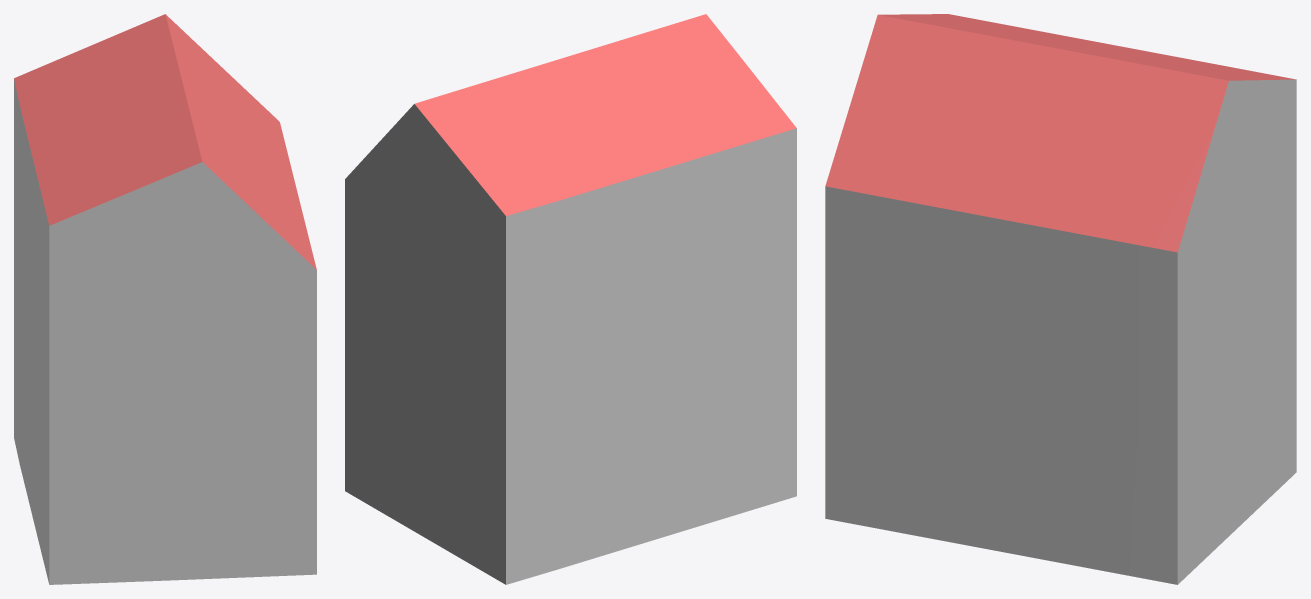
The model's file is DEBY_LOD2_4907158.gltf.
3 views of the same model, side by side, from view 1: azimuth 30°, elevation 25°; view 2: azimuth 150°, elevation 25°; view 3: azimuth 270°, elevation 25° (orthographic). The views are drawn at different scales.
Visible parts, largest first — view 1: Z_UP; view 2: Z_UP; view 3: Z_UP.
Boxes of the visible parts, left/top/right/bottom form: Z_UP: left=14, top=14, right=316, bottom=584; Z_UP: left=345, top=14, right=796, bottom=584; Z_UP: left=825, top=14, right=1296, bottom=584.
Bounding box in the file's own units: 16.51 × 19.62 × 18.39.
